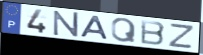4: (26, 8, 49, 34)
A: (79, 15, 110, 41)
B: (140, 19, 167, 47)
N: (52, 10, 80, 39)
Q: (110, 17, 137, 44)
Z: (167, 23, 197, 50)
